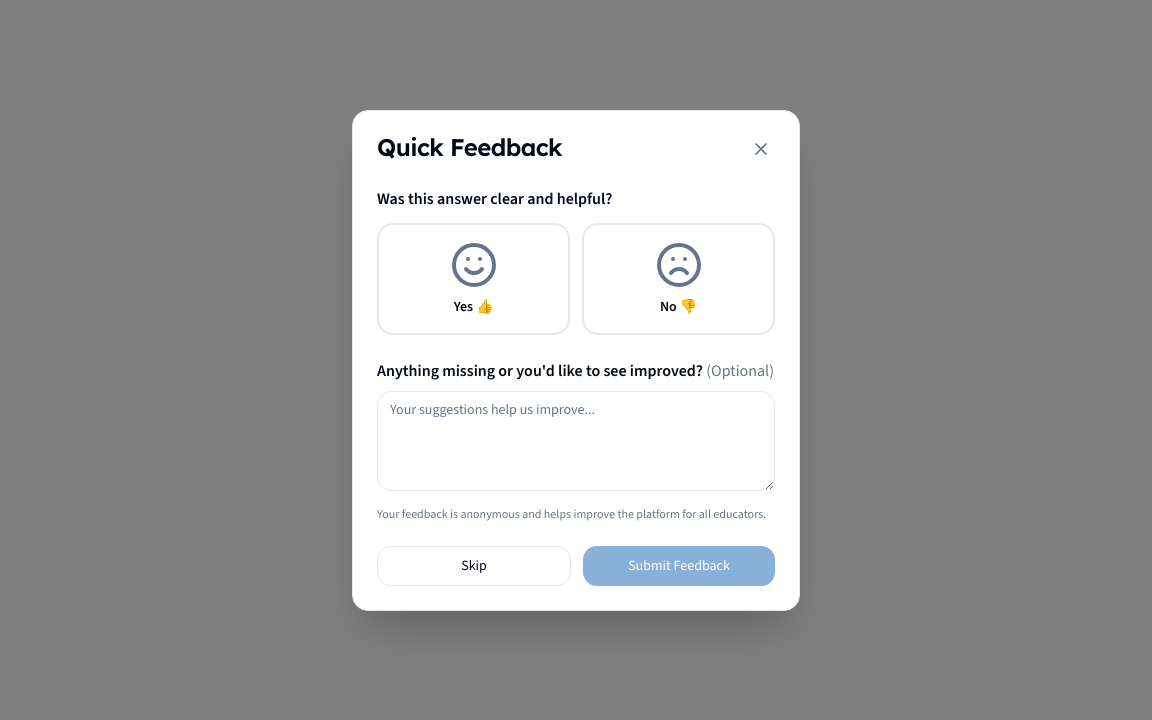
it: FeedbackDialog Component › enables submit after selecting a rating
The width and height of the screenshot is (1152, 720).
Click the button with aria-label "Yes, it was helpful": click(474, 278) [377,222,570,334]
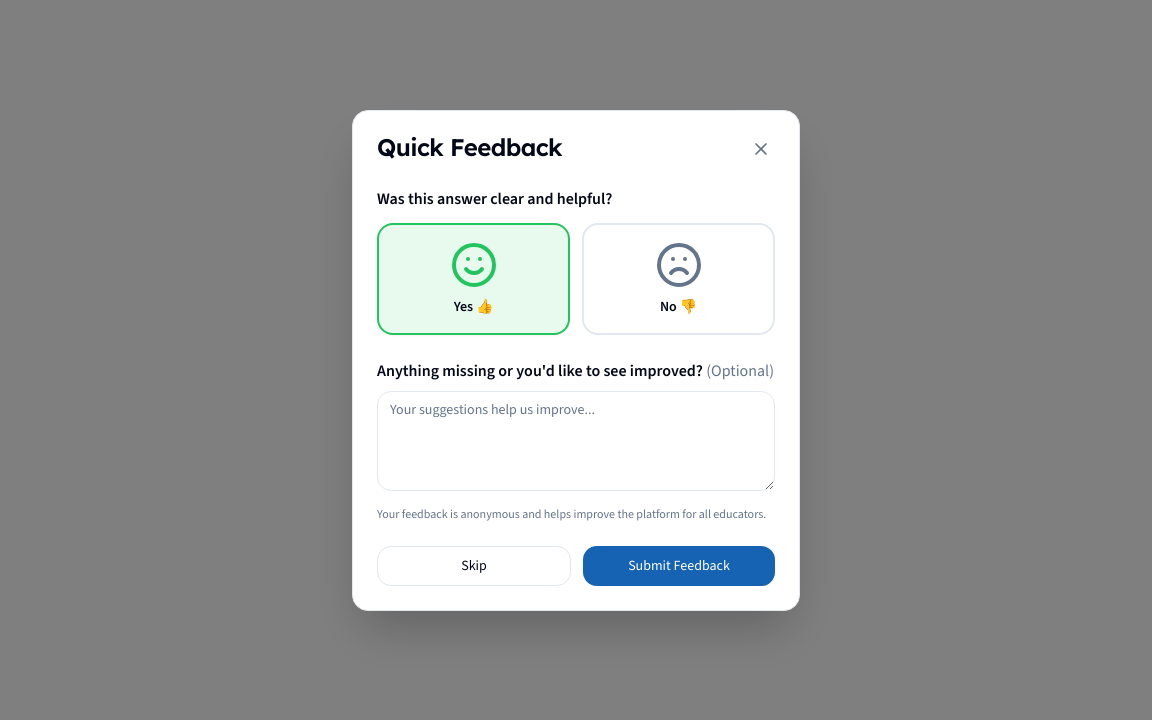
Expected: the button "Submit Feedback" is enabled, [583,546,775,586]
